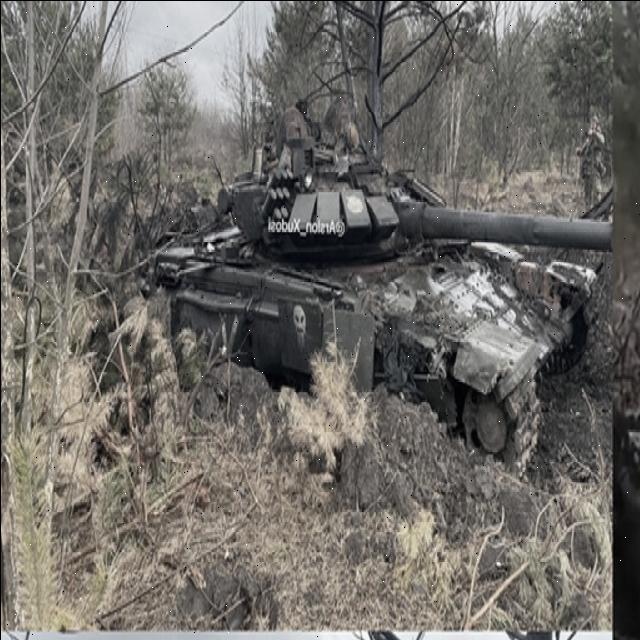TANK: (130, 91, 614, 480)
